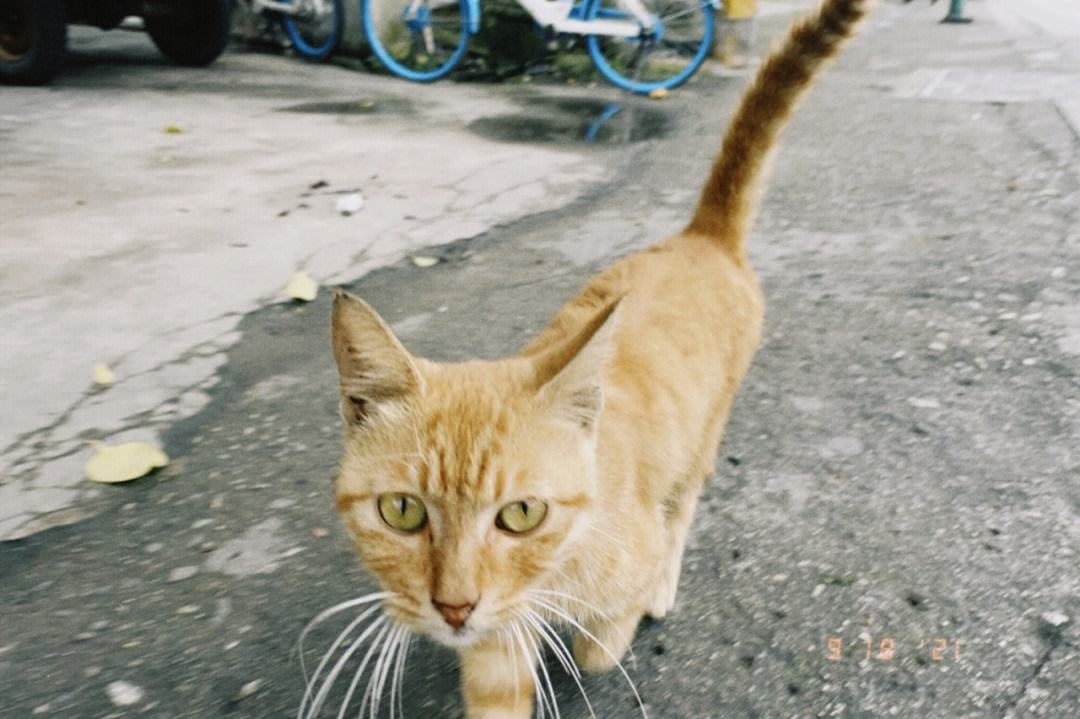cat: (329, 1, 871, 719)
